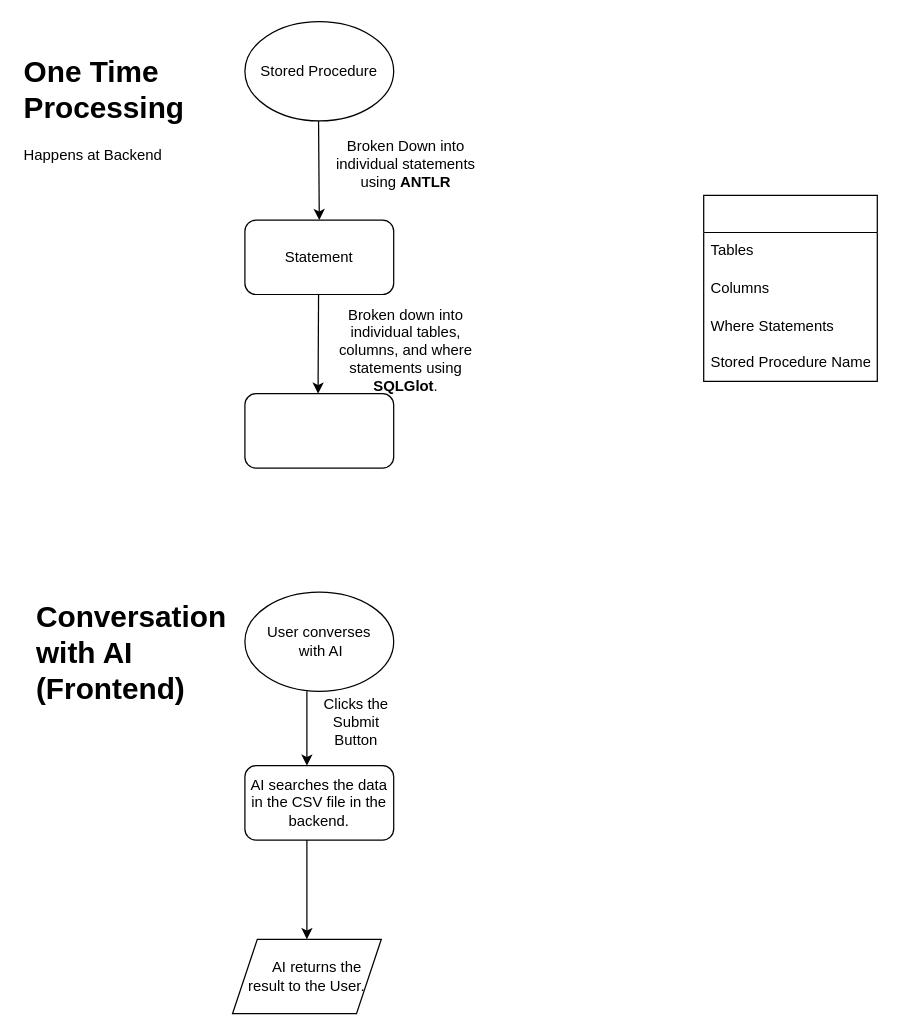
Image size: 899x1035. Some labels were removed from this diagram. The box of each missing label's shape, as (x1, y1, x2, y2) in pixels:
CSV File: (244, 392, 394, 468)
Output: (702, 194, 877, 381)
